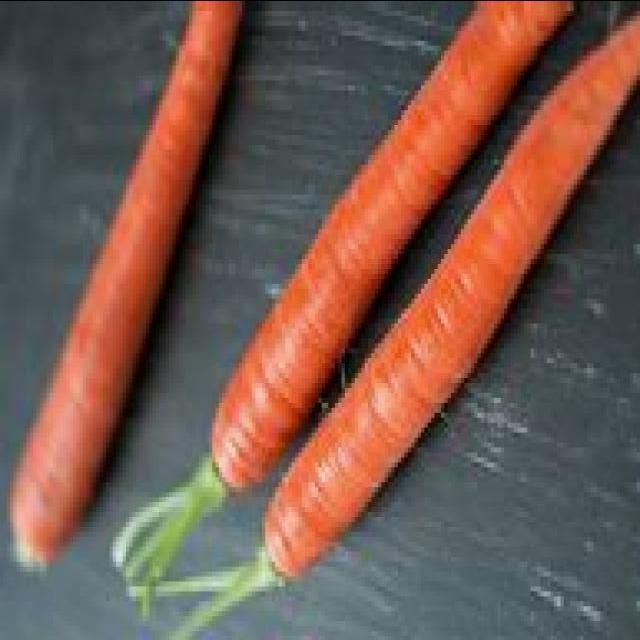carrot: (264, 10, 639, 579), (212, 1, 579, 488), (10, 1, 248, 569)
